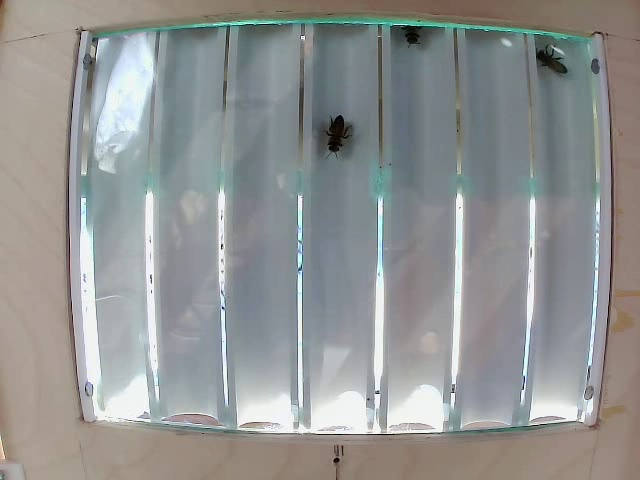bee: (319, 108, 354, 154), (532, 47, 573, 78)
